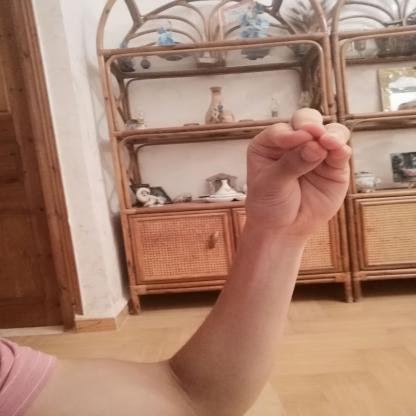HA: (227, 98, 368, 253)
